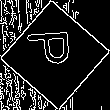P_E: (29, 35, 81, 75)
